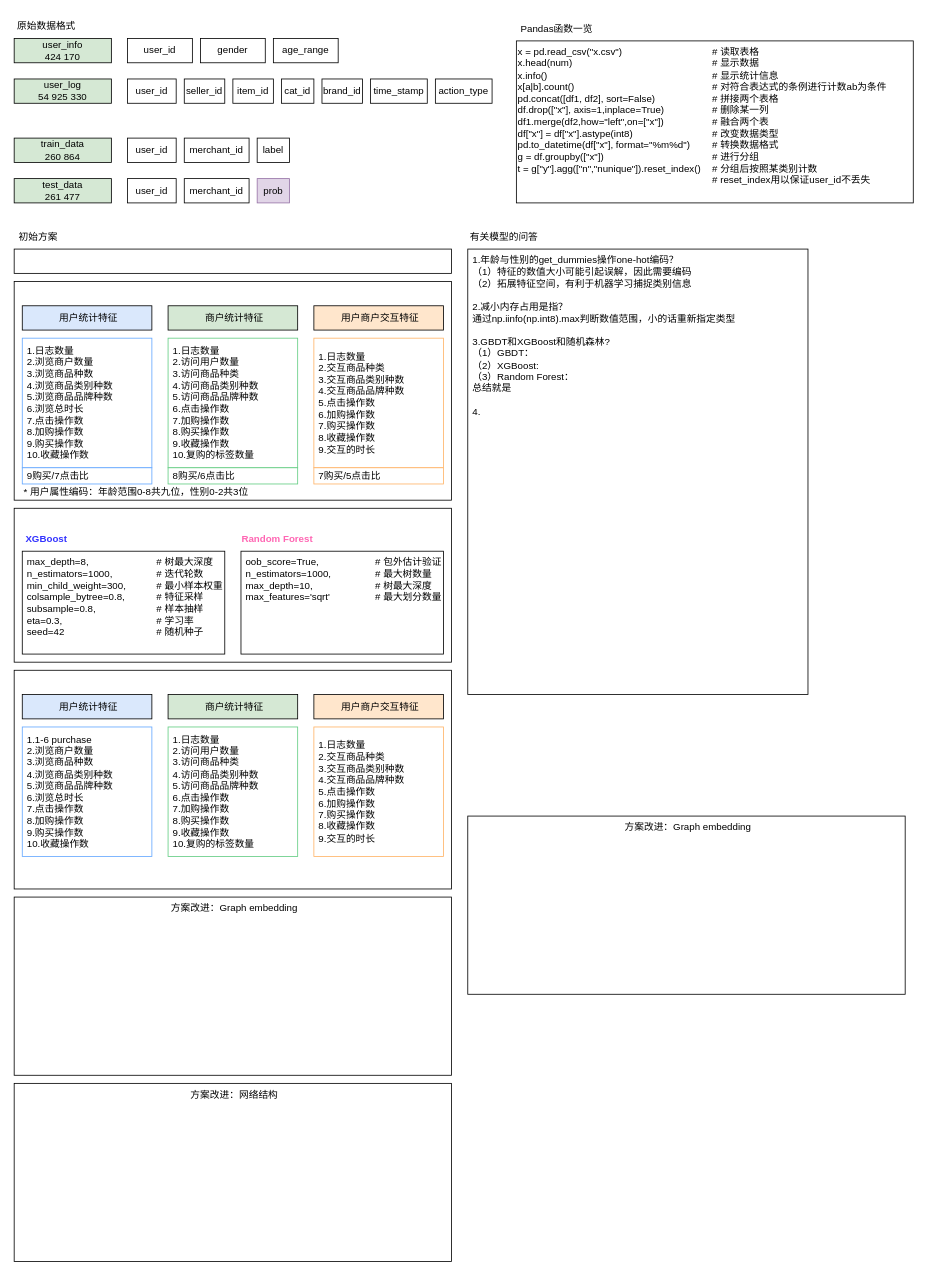
Image size: 927x1276. Some labels were removed from this diagram. Here are the shapes that lost their labels. From the top down, the box of each, then its label:
(13, 248, 452, 273): 1.数据预处理（info和log融合便于提取特征，train和test融合用于最后的训练预测， 处理缺失值 ）
(13, 281, 452, 500): 2.提取特征
(13, 507, 452, 662): 3.使用XGBoost/Random Forest进行回归预测
(13, 669, 452, 889): 方案改进：提取新的有效特征
